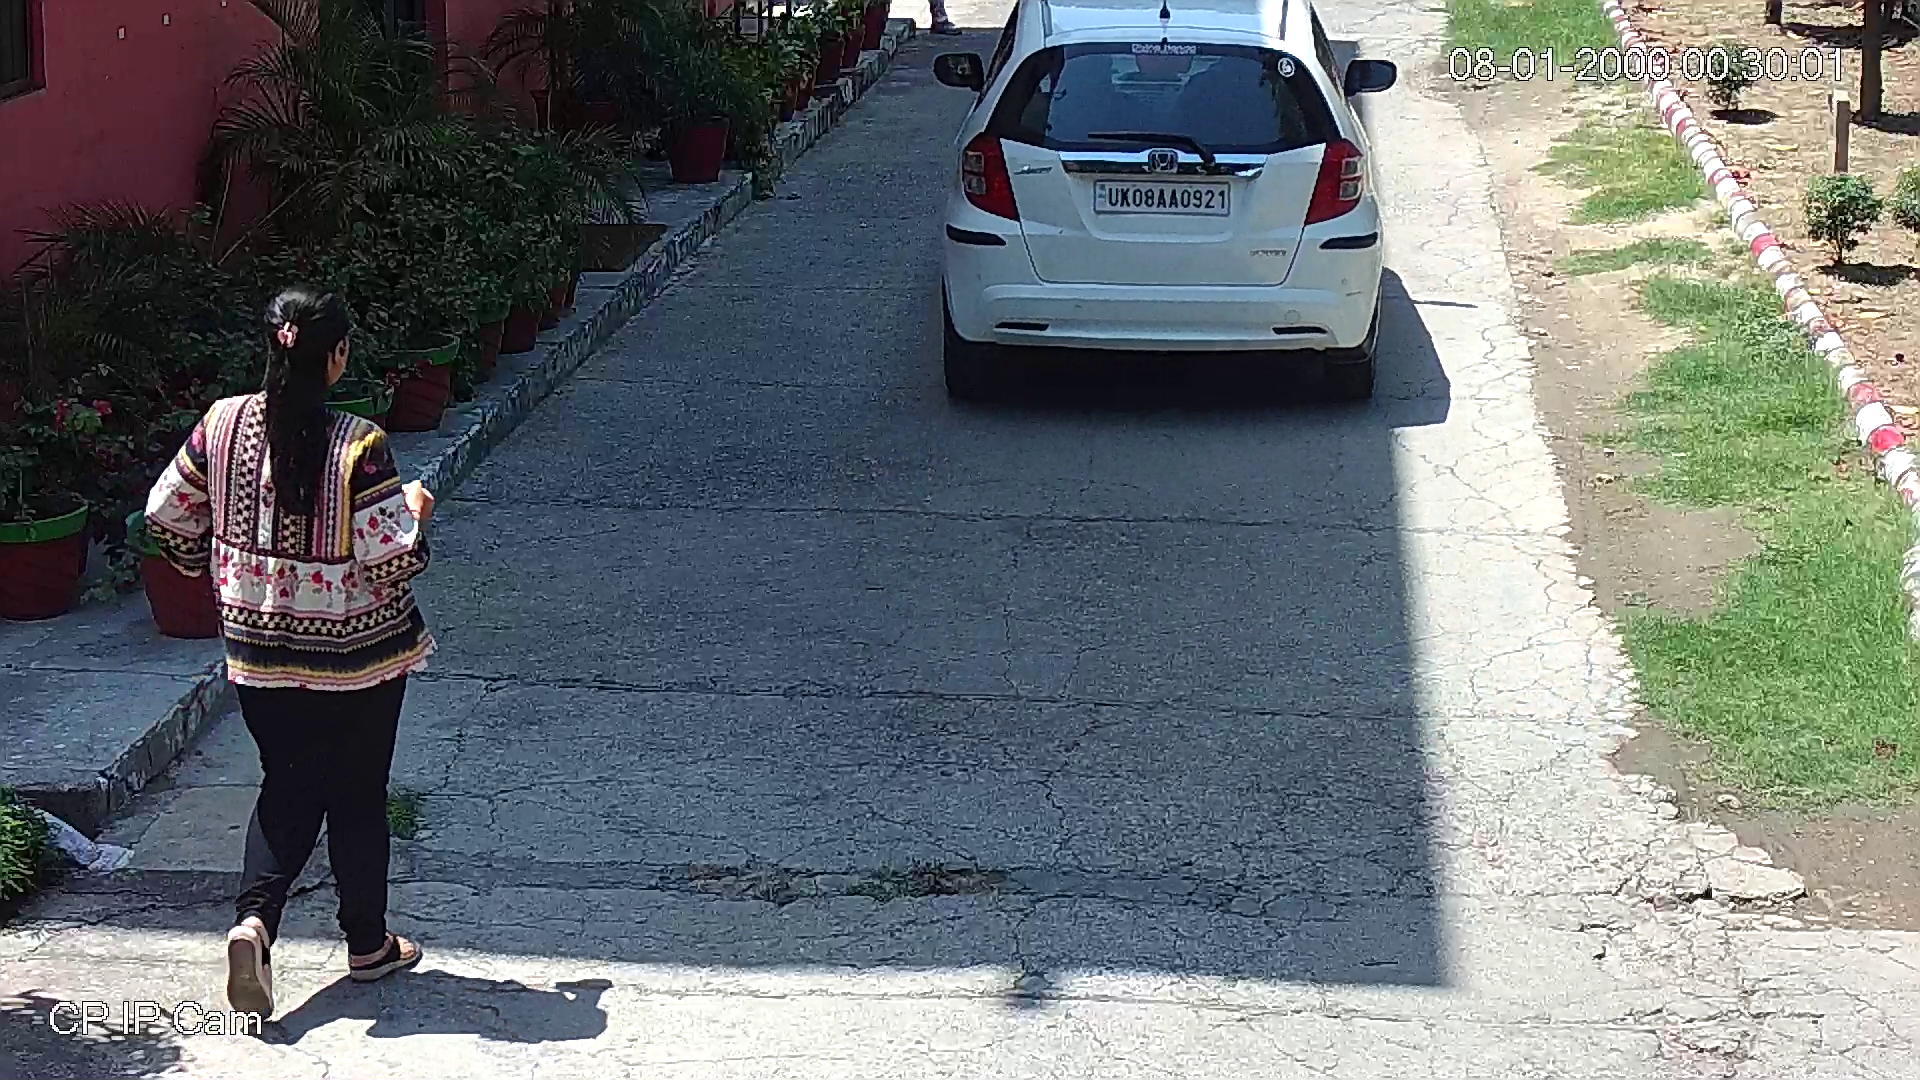plate: (1085, 178, 1239, 217)
